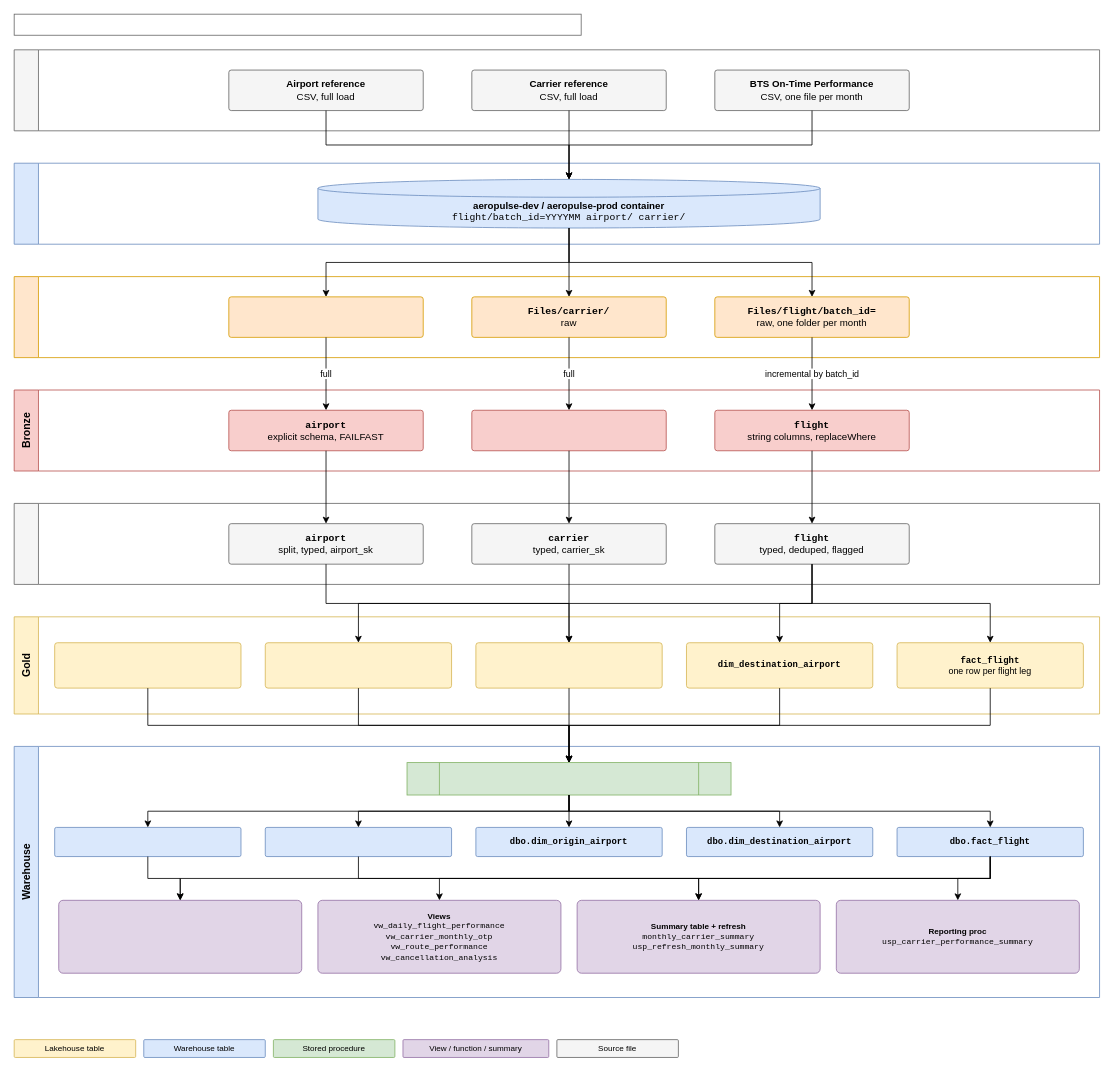
The diagram is 1114 pixels wide and 1072 high, and some of its shapes have lost their labels. Here are the shapes that lost their labels. From the top down, the box of each, then its label:
(13, 13, 581, 35): Aeropulse | data lineage, source file to analytics layer
(13, 49, 1100, 131): Source
(13, 162, 1100, 244): ADLS Gen2
(228, 296, 423, 337): Files/airport/ raw
(13, 276, 1100, 358): Landing
(471, 409, 666, 451): carrier explicit schema, FAILFAST
(13, 503, 1100, 584): Silver
(54, 642, 241, 688): dim_date generated 2018-2027
(264, 642, 452, 688): dim_carrier
(475, 642, 662, 688): dim_origin_airport
(406, 762, 731, 795): usp_load_warehouse_from_gold
(54, 827, 241, 857): dbo.dim_date
(264, 827, 452, 857): dbo.dim_carrier
(58, 900, 302, 973): Functions fn_departure_time_band fn_flights_in_range
